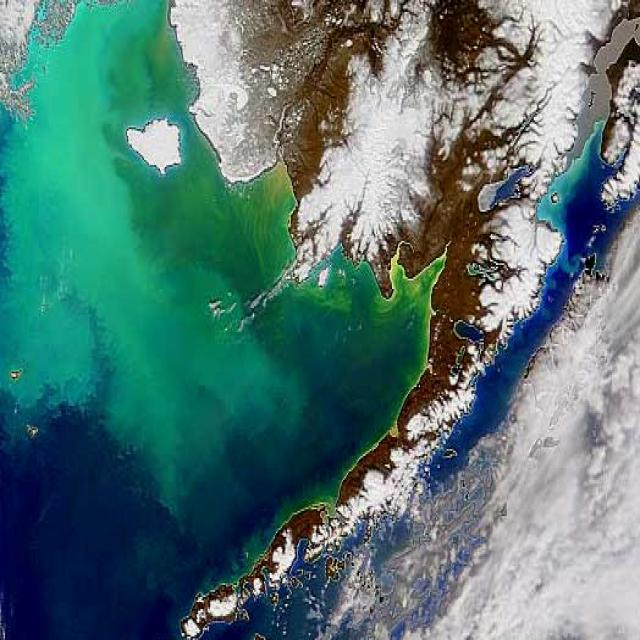algal: (14, 83, 311, 459), (159, 109, 438, 505), (63, 0, 186, 99)
